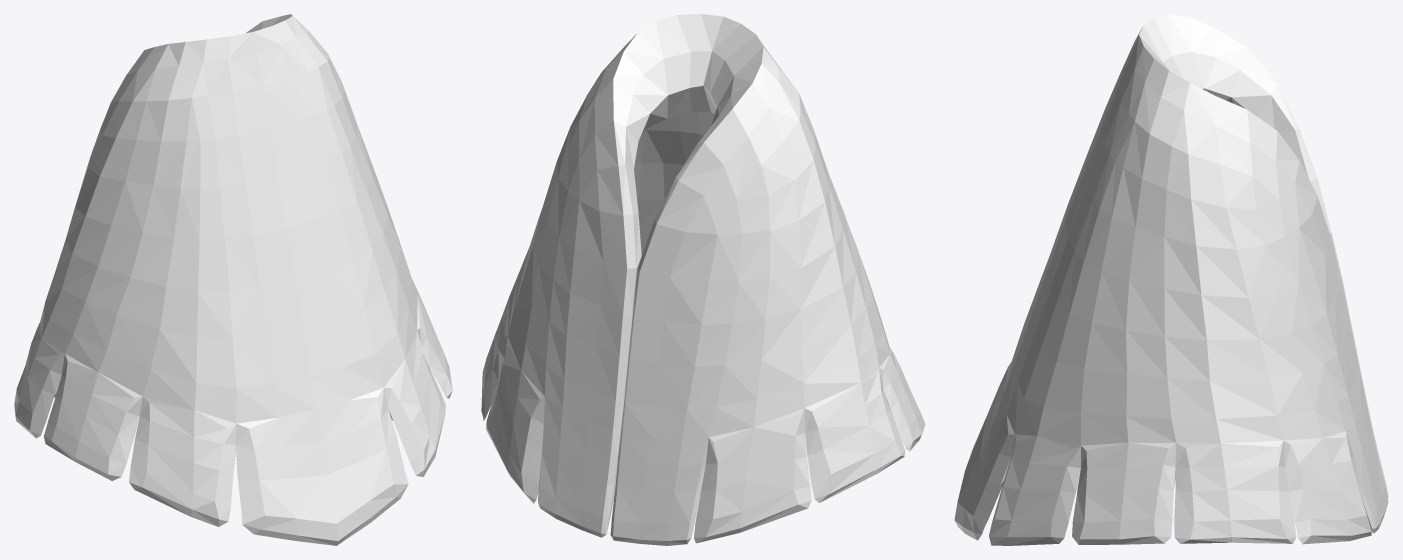
File: CharSkyKid_Wing_SwitchRed_01.glb
3 views of the same model, side by side, from view 1: azimuth 30°, elevation 25°; view 2: azimuth 150°, elevation 25°; view 3: azimuth 270°, elevation 25° (orthographic). The views are drawn at different scales.
Parts seen in each view (by area): view 1: CharSkyKid_Wing_SwitchRed_01; view 2: CharSkyKid_Wing_SwitchRed_01; view 3: CharSkyKid_Wing_SwitchRed_01.
Boxes of the visible parts, left/top/right/bottom form: CharSkyKid_Wing_SwitchRed_01: left=14, top=14, right=452, bottom=545; CharSkyKid_Wing_SwitchRed_01: left=481, top=14, right=925, bottom=545; CharSkyKid_Wing_SwitchRed_01: left=954, top=14, right=1388, bottom=545.
Bounding box in the file's own units: 6.48 × 7.02 × 5.62.
1 material, 1 textured.
